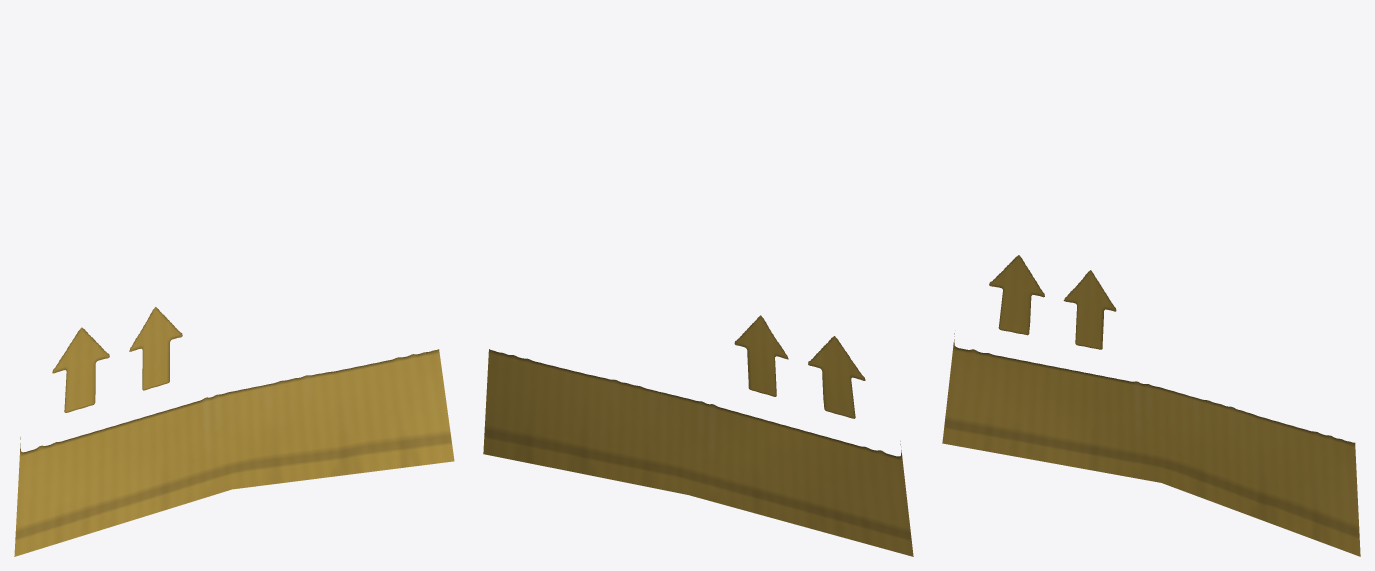
Rendered from p_mesh_fruitbox_part03.fbx.
3 renders of one model, left to right at view 1: azimuth 30°, elevation 25°; view 2: azimuth 150°, elevation 25°; view 3: azimuth 330°, elevation 25°, orthographic. The views are drawn at different scales.
Visible parts, largest first — view 1: p_mesh_containers_fruitbox_part03; view 2: p_mesh_containers_fruitbox_part03; view 3: p_mesh_containers_fruitbox_part03.
Part boxes in pixels (left/top/right/bottom): p_mesh_containers_fruitbox_part03: left=14, top=307, right=454, bottom=556; p_mesh_containers_fruitbox_part03: left=483, top=315, right=913, bottom=556; p_mesh_containers_fruitbox_part03: left=942, top=255, right=1360, bottom=556.
Bounding box in the file's own units: 4 × 3.94 × 0.1754.
